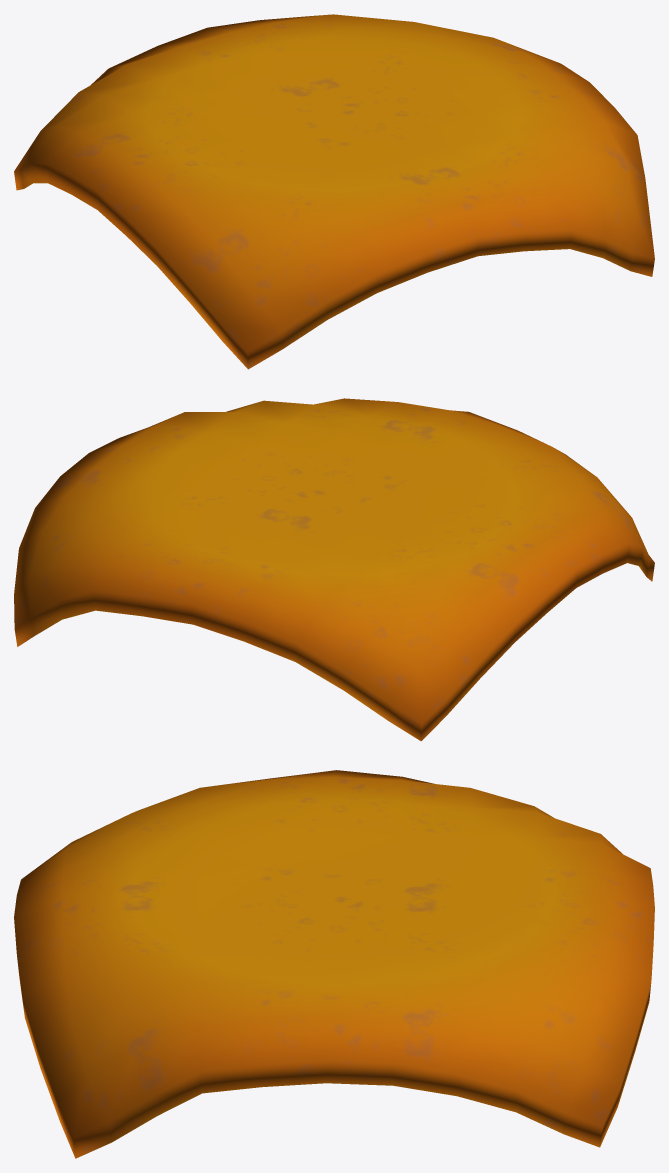
Rendered from Cheese_Burger.fbx.
The picture shows the model from 3 angles, top to bottom: view 1: azimuth 30°, elevation 25°; view 2: azimuth 150°, elevation 25°; view 3: azimuth 270°, elevation 25°; orthographic projection. The views are drawn at different scales.
Parts seen in each view (by area): view 1: cheese; view 2: cheese; view 3: cheese.
Boxes of the visible parts, x1,y1,x2,y2 form: cheese: [14, 14, 654, 369]; cheese: [14, 398, 654, 741]; cheese: [14, 770, 654, 1158].
Size of the model in its own units: 18.94 by 4.79 by 18.32.
